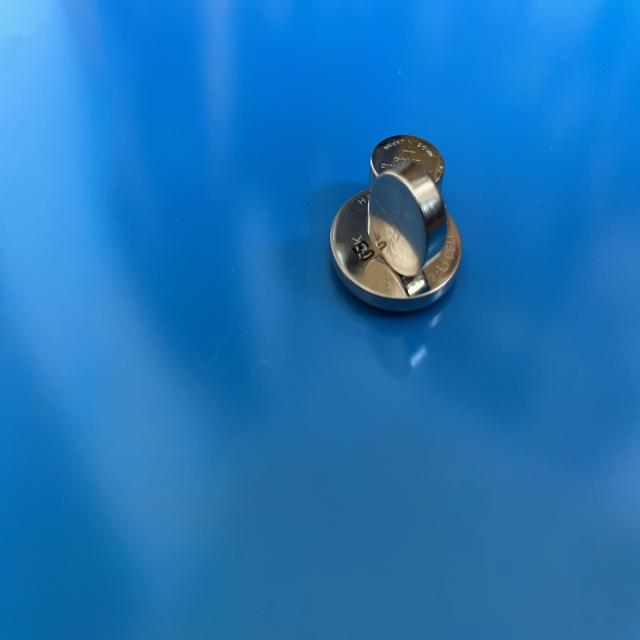COIN: (328, 189, 466, 317), (367, 167, 449, 278), (366, 131, 447, 216)
